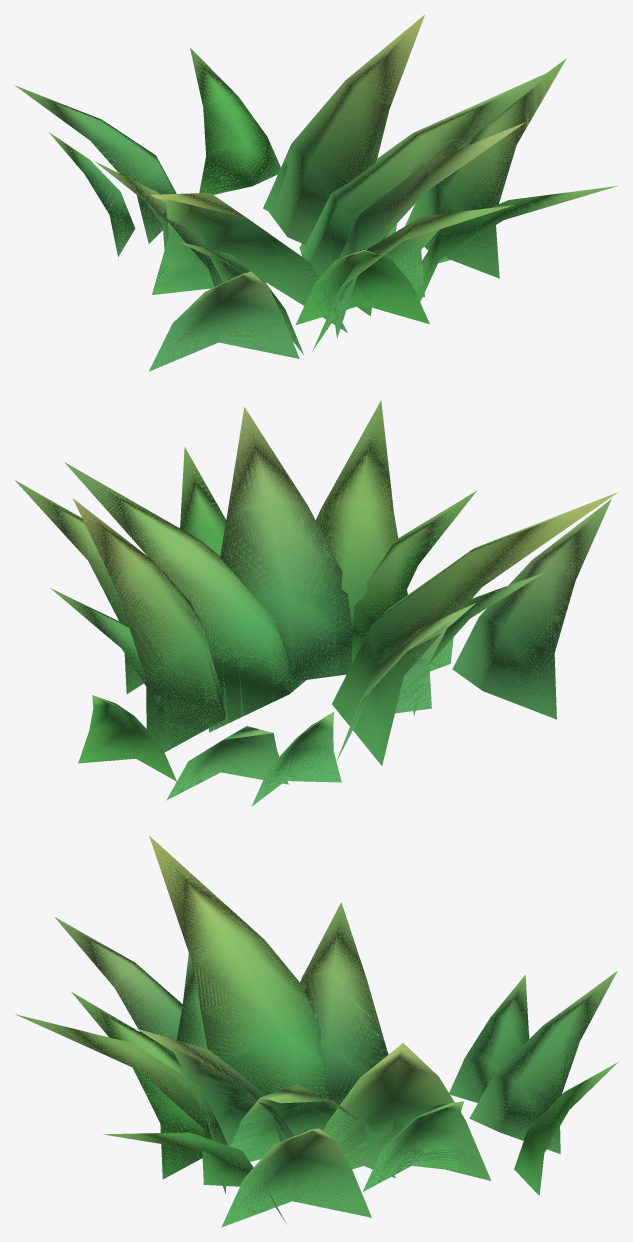
The model's file is verdant_ground_grass_tuft_b.glb.
3 views of the same model, one above another, from view 1: azimuth 30°, elevation 25°; view 2: azimuth 150°, elevation 25°; view 3: azimuth 270°, elevation 25° (orthographic). The views are drawn at different scales.
Parts seen in each view (by area): view 1: verdant_ground_grass_tuft_b; view 2: verdant_ground_grass_tuft_b; view 3: verdant_ground_grass_tuft_b.
Boxes of the visible parts, left/top/right/bottom form: verdant_ground_grass_tuft_b: left=15, top=15, right=617, bottom=371; verdant_ground_grass_tuft_b: left=15, top=400, right=618, bottom=806; verdant_ground_grass_tuft_b: left=15, top=836, right=618, bottom=1227.
Bounding box in the file's own units: 0.8386 × 0.3378 × 0.8769.
